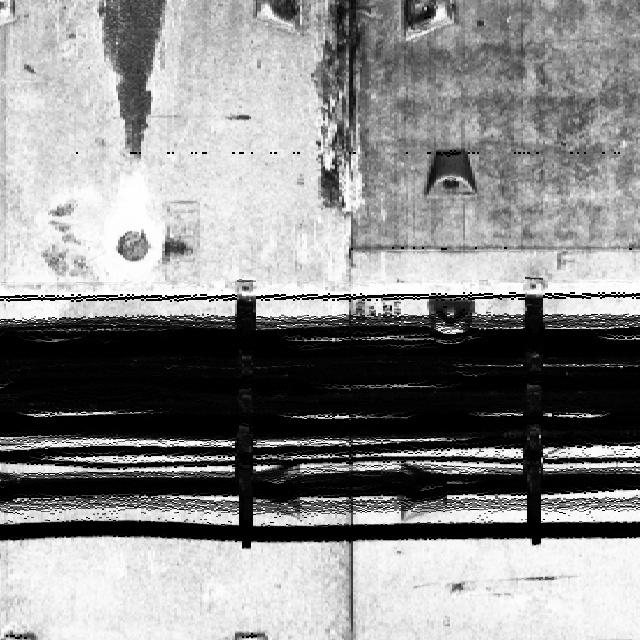leakage: (307, 0, 382, 217), (95, 0, 174, 163)
